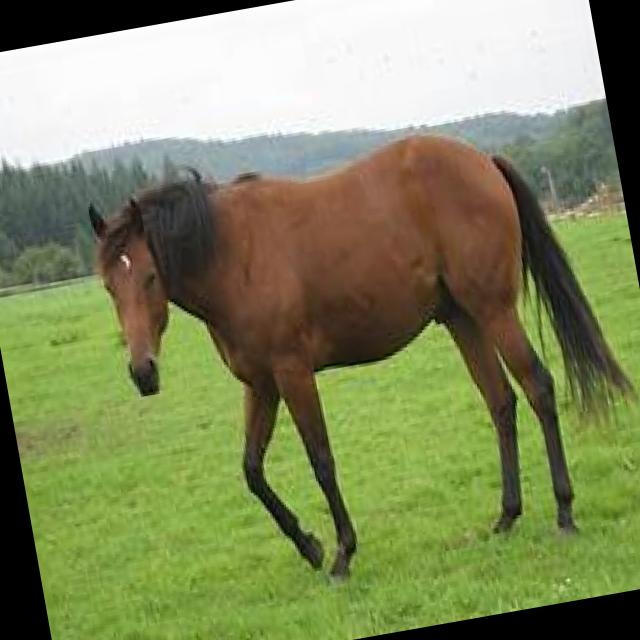animal: (84, 107, 640, 608)
